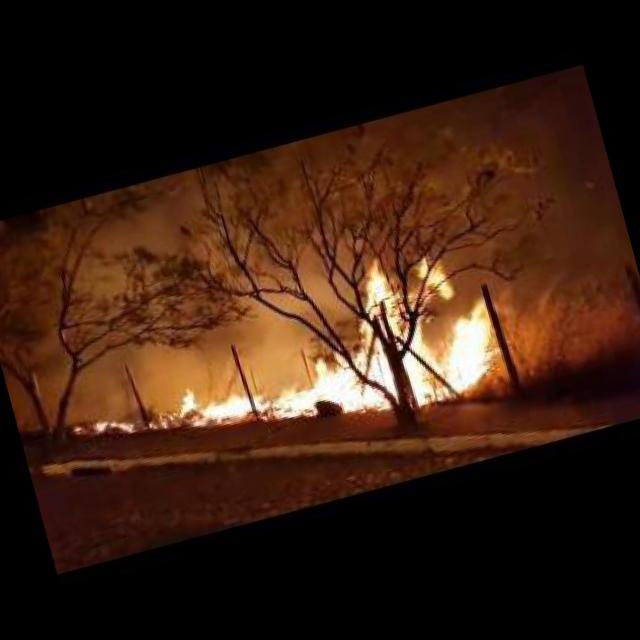fire: (140, 231, 515, 464), (94, 412, 134, 439)
